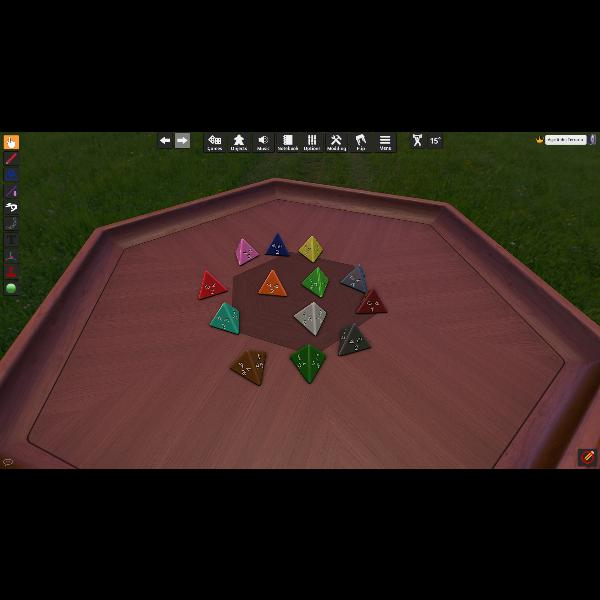d4: (230, 347, 268, 384), (290, 344, 325, 384), (338, 322, 370, 356), (293, 302, 325, 335), (209, 302, 239, 334), (357, 286, 387, 314), (302, 266, 328, 298), (199, 270, 226, 300), (258, 269, 286, 297), (340, 264, 366, 294), (236, 238, 258, 266), (300, 234, 322, 262), (265, 232, 289, 256)
